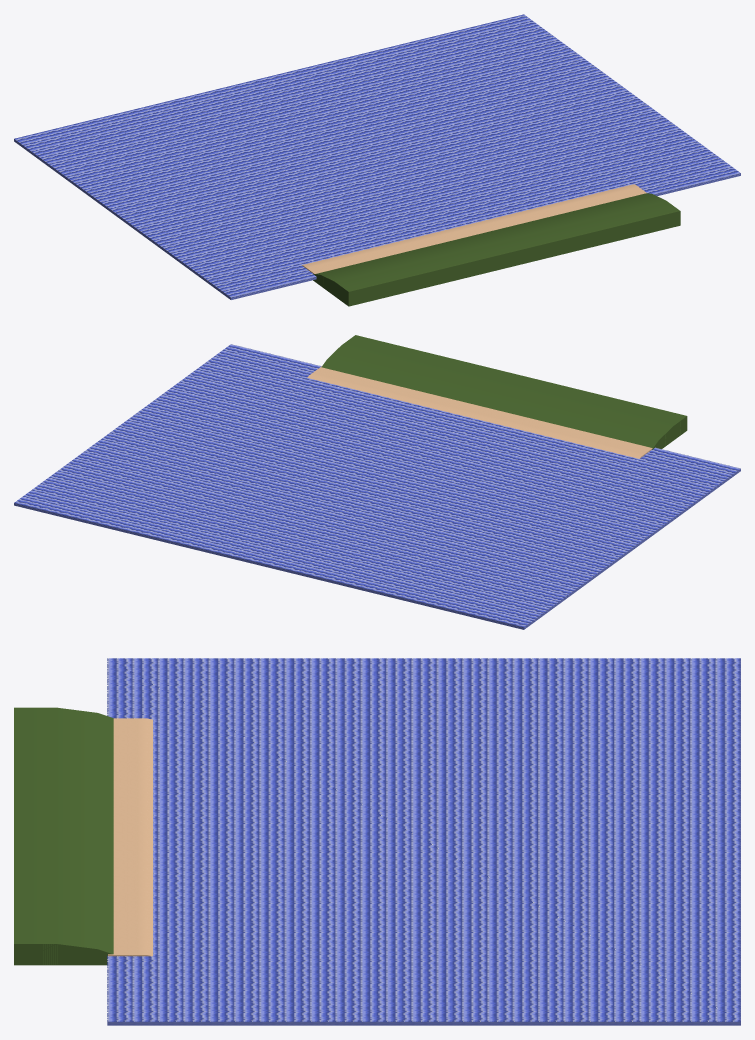
The model's file is LakesidePlane.fbx.
3 views of the same model, one above another, from view 1: azimuth 30°, elevation 25°; view 2: azimuth 150°, elevation 25°; view 3: azimuth 270°, elevation 25° (orthographic). The views are drawn at different scales.
Parts seen in each view (by area): view 1: Water, LakesidePlane, SeasidePlane; view 2: Water, LakesidePlane, SeasidePlane; view 3: Water, LakesidePlane, SeasidePlane.
Part boxes in pixels (x1=…): Water: x1=14, y1=14, x2=740, y2=299; LakesidePlane: x1=313, y1=193, x2=680, y2=306; SeasidePlane: x1=302, y1=184, x2=646, y2=273; Water: x1=14, y1=344, x2=740, y2=629; LakesidePlane: x1=321, y1=335, x2=687, y2=449; SeasidePlane: x1=307, y1=366, x2=652, y2=458; Water: x1=107, y1=658, x2=740, y2=1025; LakesidePlane: x1=14, y1=707, x2=113, y2=965; SeasidePlane: x1=108, y1=718, x2=152, y2=956.
Bounding box in the file's own units: 216037 × 5945 × 182726.
3 materials, 3 textured.
